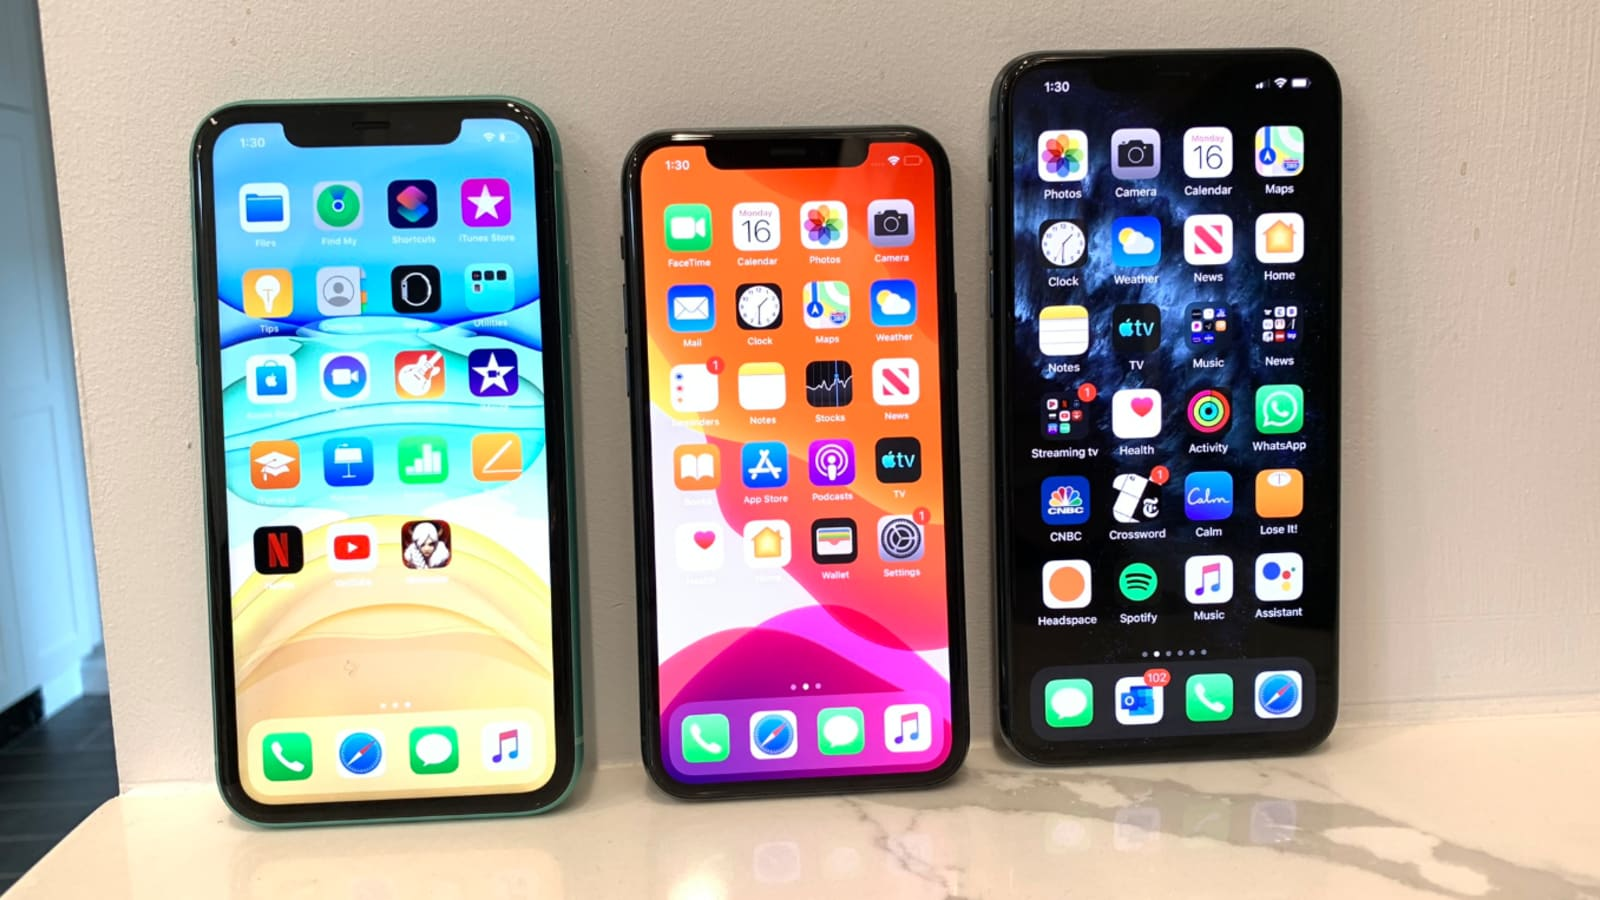Cell Phone: (187, 95, 591, 813), (985, 49, 1337, 762), (625, 127, 971, 784)
